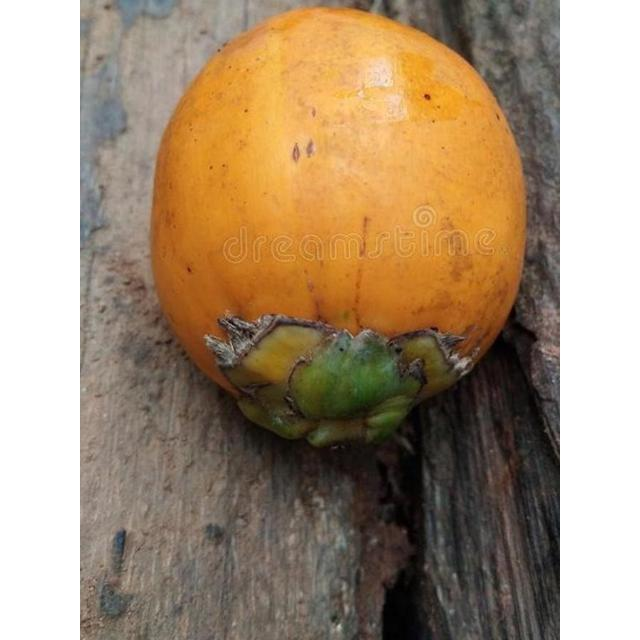good: (149, 8, 528, 450)
